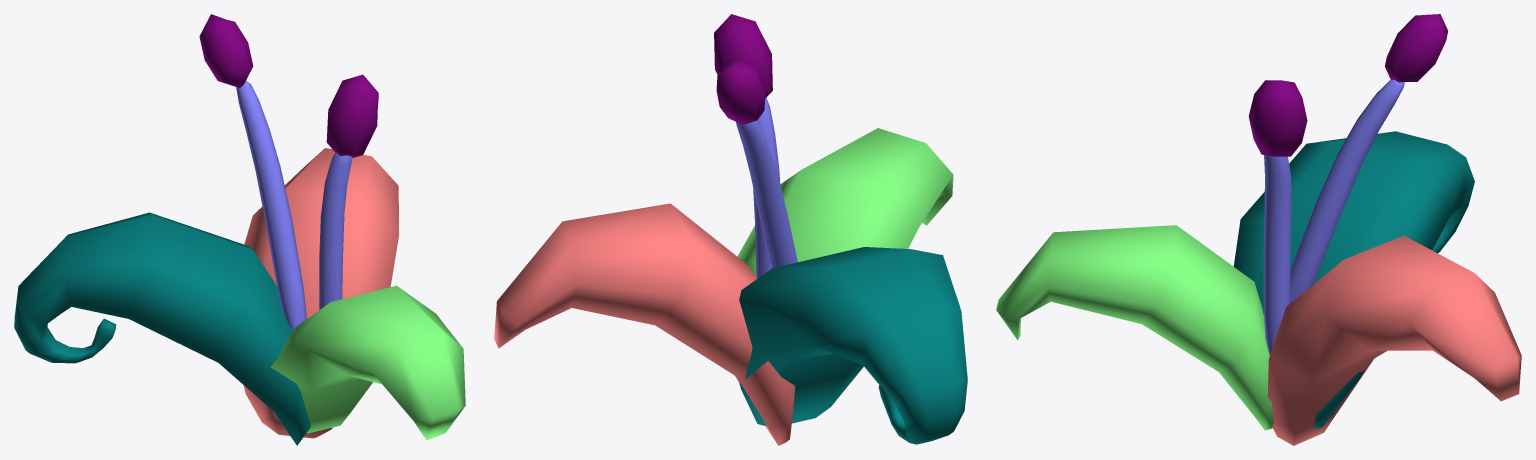
File: Grass03.2.fbx
The picture shows the model from 3 angles, left to right: view 1: azimuth 30°, elevation 25°; view 2: azimuth 150°, elevation 25°; view 3: azimuth 270°, elevation 25°; orthographic projection. The views are drawn at different scales.
Parts seen in each view (by area): view 1: Low_Grass032; view 2: Low_Grass032; view 3: Low_Grass032.
Boxes of the visible parts, bbox=[...] form: Low_Grass032: bbox=[14, 14, 465, 445]; Low_Grass032: bbox=[494, 14, 967, 445]; Low_Grass032: bbox=[996, 14, 1521, 445].
Size of the model in its own units: 642 by 598 by 691.
